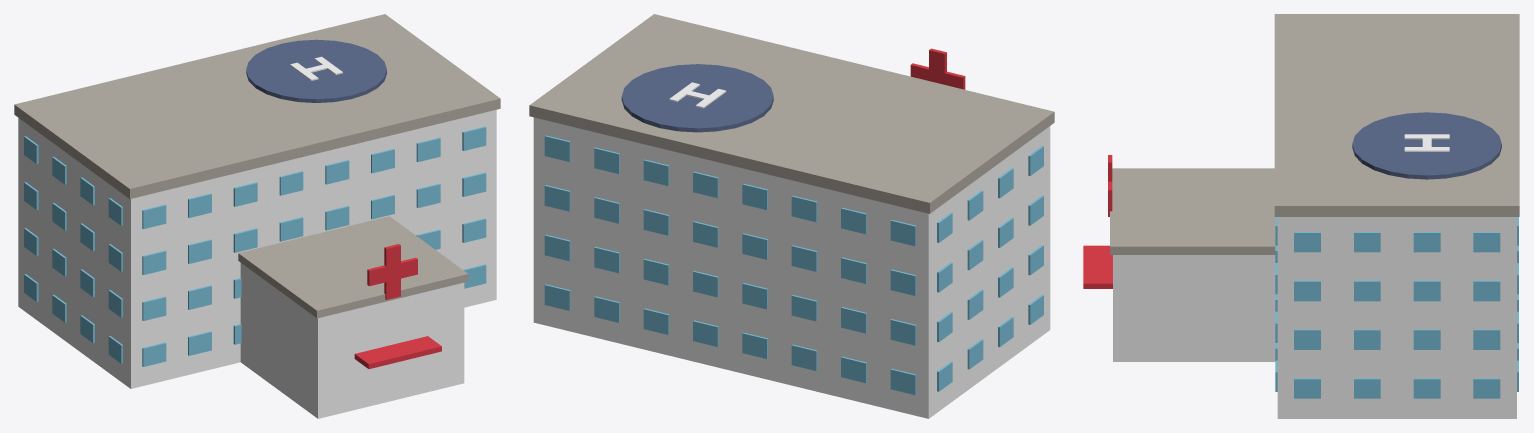
File: hospital.glb
3 views of the same model, side by side, from view 1: azimuth 30°, elevation 25°; view 2: azimuth 150°, elevation 25°; view 3: azimuth 270°, elevation 25° (orthographic). The views are drawn at different scales.
Parts seen in each view (by area): view 1: hospital_white, hospital_roof_flat, hospital_window, hospital_roof_slate, hospital_red; view 2: hospital_white, hospital_roof_flat, hospital_window, hospital_roof_slate, hospital_red; view 3: hospital_white, hospital_roof_flat, hospital_window, hospital_roof_slate, hospital_red.
Part boxes in pixels (left/top/right/bottom): hospital_white: left=18, top=56, right=496, bottom=418; hospital_roof_flat: left=14, top=14, right=500, bottom=318; hospital_window: left=24, top=126, right=486, bottom=366; hospital_roof_slate: left=246, top=39, right=386, bottom=102; hospital_red: left=354, top=244, right=441, bottom=368; hospital_white: left=533, top=82, right=1050, bottom=418; hospital_roof_flat: left=529, top=14, right=1054, bottom=213; hospital_window: left=544, top=135, right=1043, bottom=394; hospital_roof_slate: left=621, top=64, right=773, bottom=132; hospital_red: left=910, top=48, right=965, bottom=89; hospital_white: left=1113, top=134, right=1516, bottom=418; hospital_roof_flat: left=1110, top=14, right=1519, bottom=254; hospital_window: left=1275, top=217, right=1518, bottom=398; hospital_roof_slate: left=1352, top=112, right=1501, bottom=179; hospital_red: left=1083, top=155, right=1112, bottom=288.
Size of the model in its own units: 30.4 by 16.2 by 29.2.
